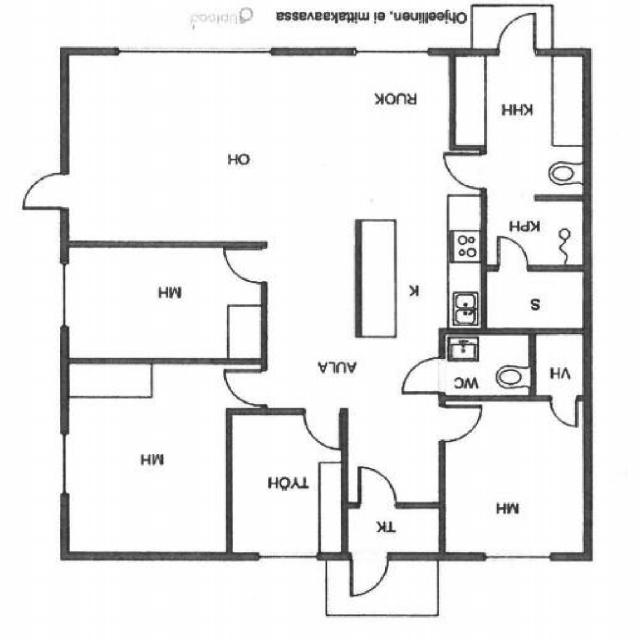door: (498, 13, 536, 55), (351, 551, 388, 594), (24, 173, 68, 208), (439, 405, 482, 440), (224, 370, 268, 404), (403, 357, 445, 392), (444, 154, 487, 188), (304, 408, 340, 448), (225, 249, 268, 282), (498, 237, 528, 270), (550, 394, 576, 424)
